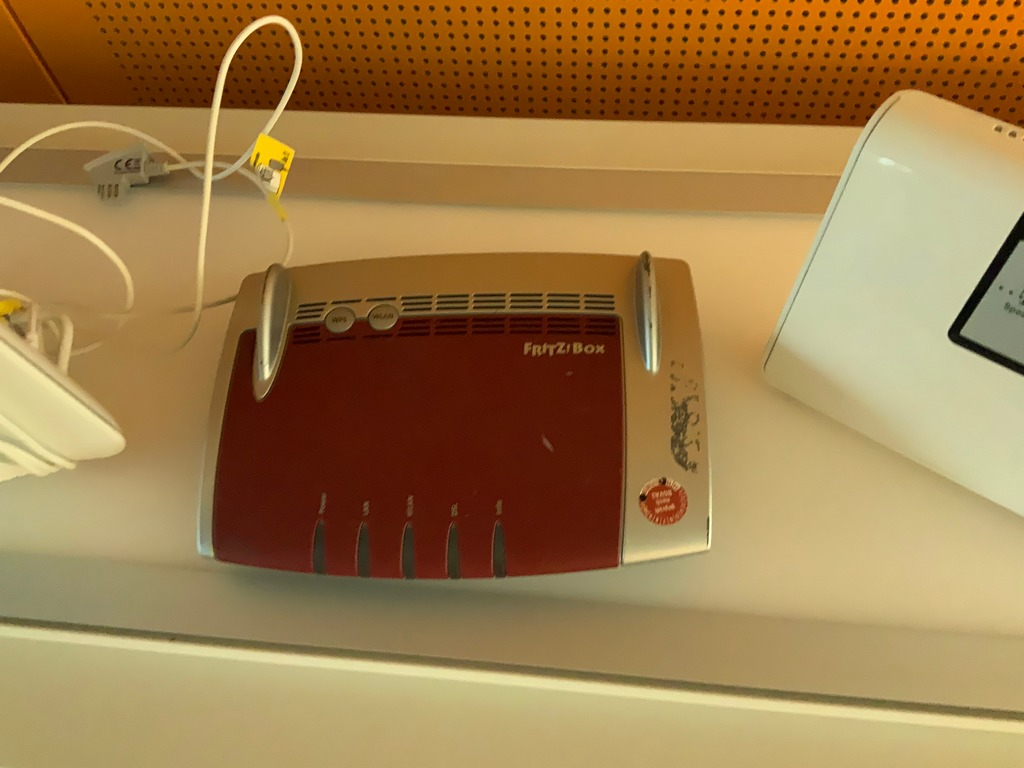Router2: (760, 84, 1024, 542)
router3: (204, 253, 719, 587)
